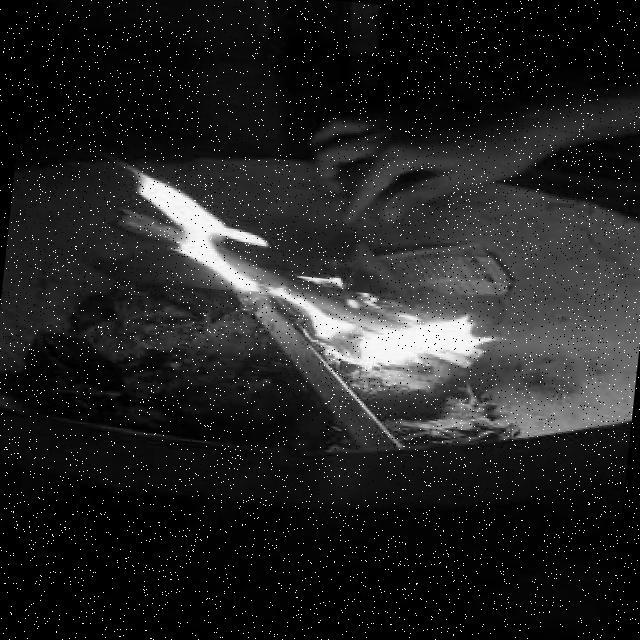Fire: (80, 158, 533, 393)
